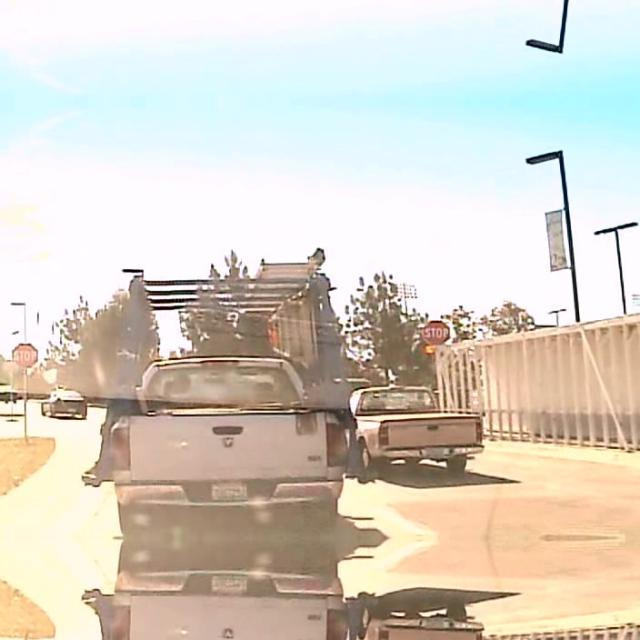stop: (421, 318, 449, 344), (12, 342, 38, 366)
